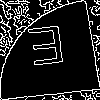E: (25, 25, 69, 75)
